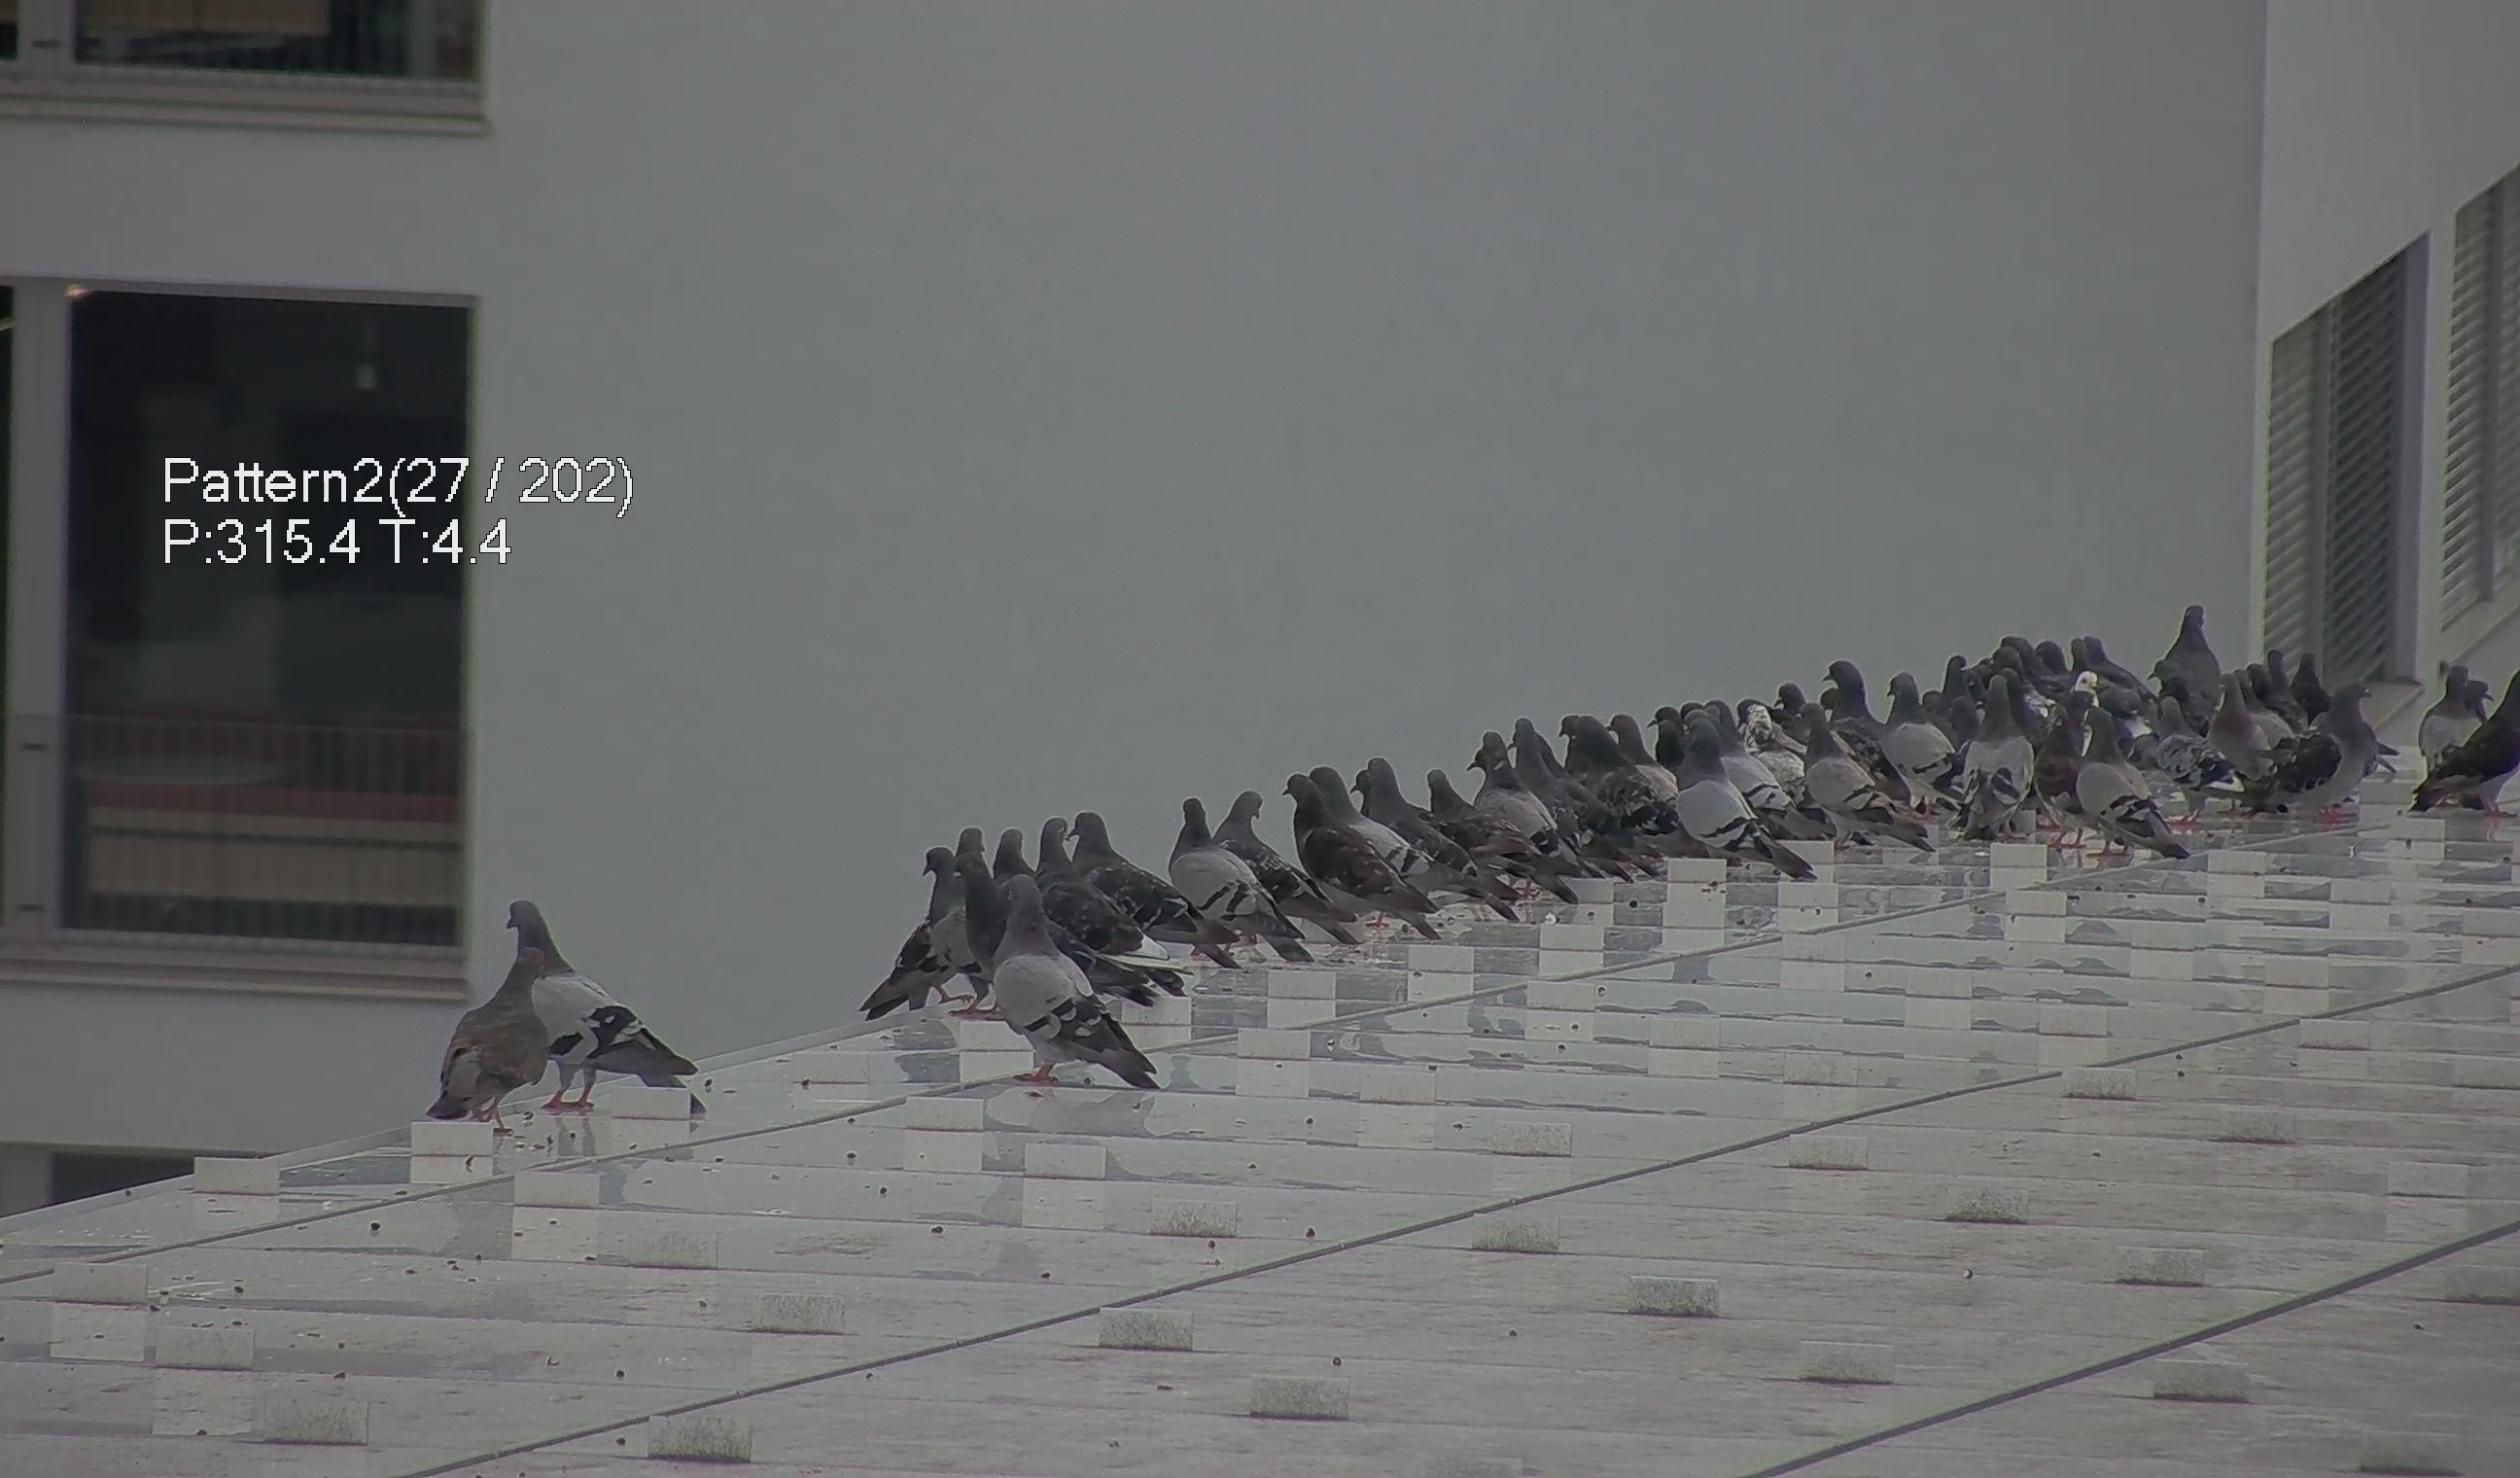Pigeon: (491, 894, 693, 1116), (980, 864, 1169, 1098), (427, 945, 568, 1144), (1032, 808, 1178, 991), (1282, 765, 1419, 954), (1161, 785, 1300, 955), (1665, 706, 1811, 862), (860, 832, 967, 1029), (1669, 700, 1808, 838), (2080, 711, 2188, 874), (2269, 679, 2388, 823), (2416, 660, 2520, 820), (1066, 783, 1168, 936), (1468, 741, 1584, 871), (1569, 709, 1681, 834), (1889, 676, 1977, 816), (2010, 676, 2089, 827), (1963, 695, 2031, 845), (1727, 695, 1815, 808), (1212, 778, 1291, 892), (2158, 596, 2239, 700), (2418, 677, 2497, 767), (2214, 677, 2274, 794), (1810, 662, 1882, 751), (1511, 706, 1562, 779), (1938, 649, 1978, 735), (1421, 760, 1468, 816), (990, 820, 1032, 880)
